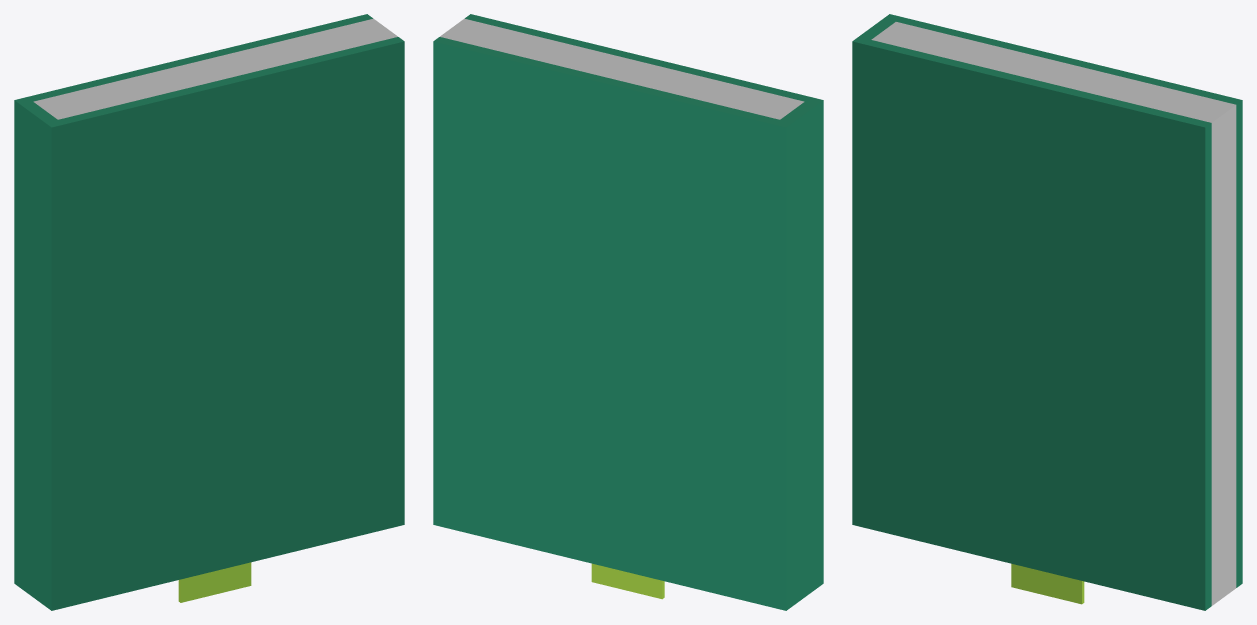
The model's file is Book3.glb.
3 views of the same model, side by side, from view 1: azimuth 30°, elevation 25°; view 2: azimuth 150°, elevation 25°; view 3: azimuth 330°, elevation 25° (orthographic).
Parts seen in each view (by area): view 1: SO_Book_03; view 2: SO_Book_03; view 3: SO_Book_03.
Part boxes in pixels (left/top/right/bottom): SO_Book_03: left=14, top=14, right=404, bottom=610; SO_Book_03: left=433, top=14, right=823, bottom=610; SO_Book_03: left=852, top=14, right=1242, bottom=610.
Bounding box in the file's own units: 0.5169 × 0.7299 × 0.095.
1 material, 1 textured.
